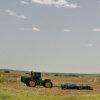Tractor: (16, 63, 58, 98)
